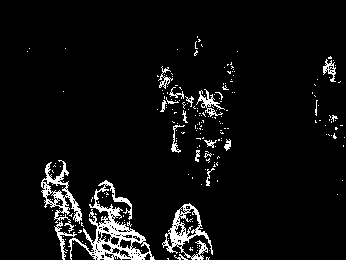person: (43, 161, 93, 254), (95, 198, 154, 260), (168, 201, 212, 258), (204, 93, 228, 184), (162, 87, 188, 157), (93, 182, 115, 222)
